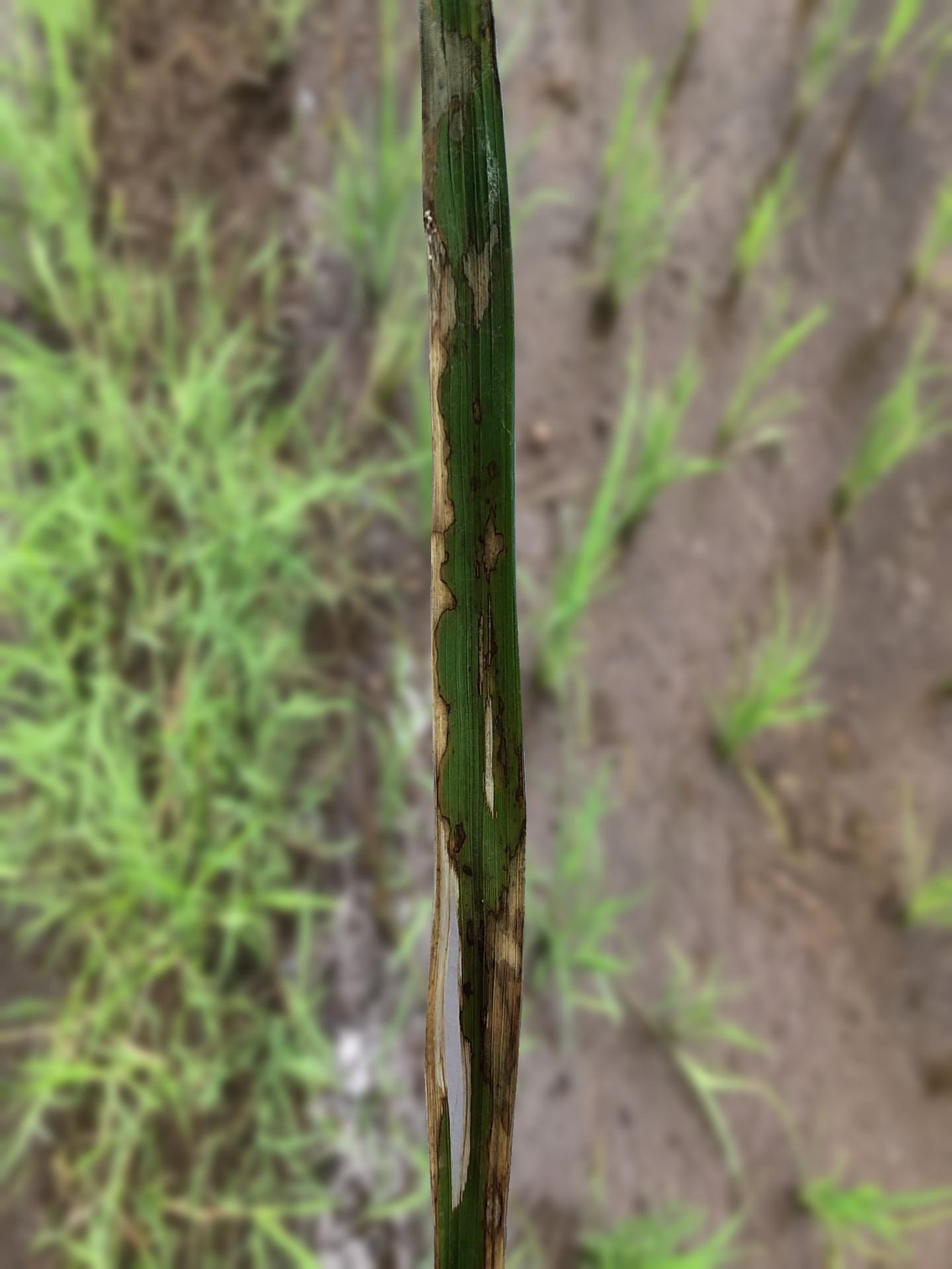BLB: (417, 0, 483, 1268), (475, 733, 526, 1268), (462, 864, 473, 876), (486, 499, 490, 505), (496, 503, 497, 509)
LEAF: (418, 0, 526, 1268)
